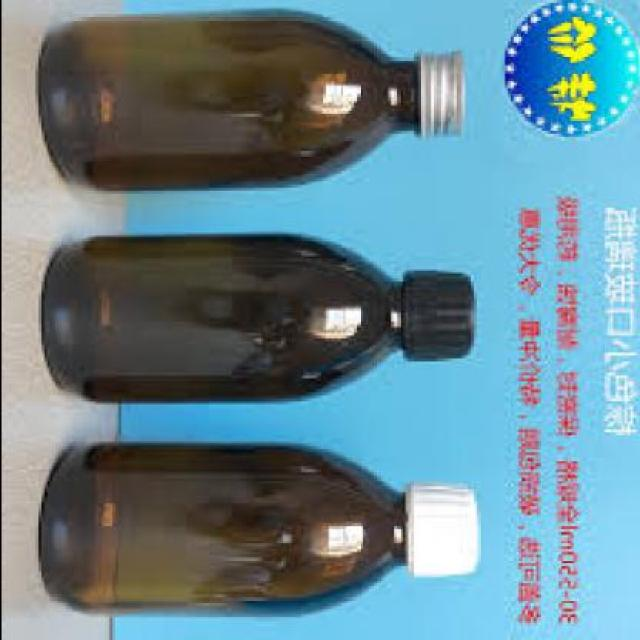glass: (37, 12, 418, 197), (40, 444, 406, 618), (43, 240, 402, 411)
metal: (422, 54, 471, 140)
plastic: (408, 486, 482, 583), (398, 274, 476, 364)
